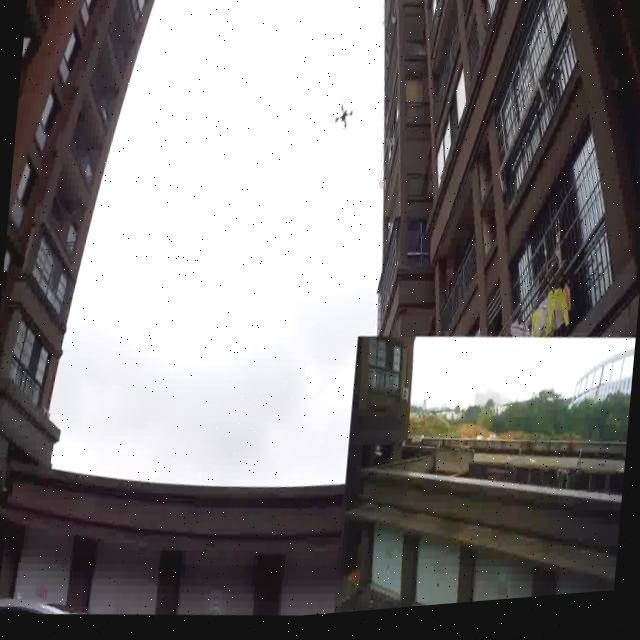drone: (302, 76, 371, 170)
